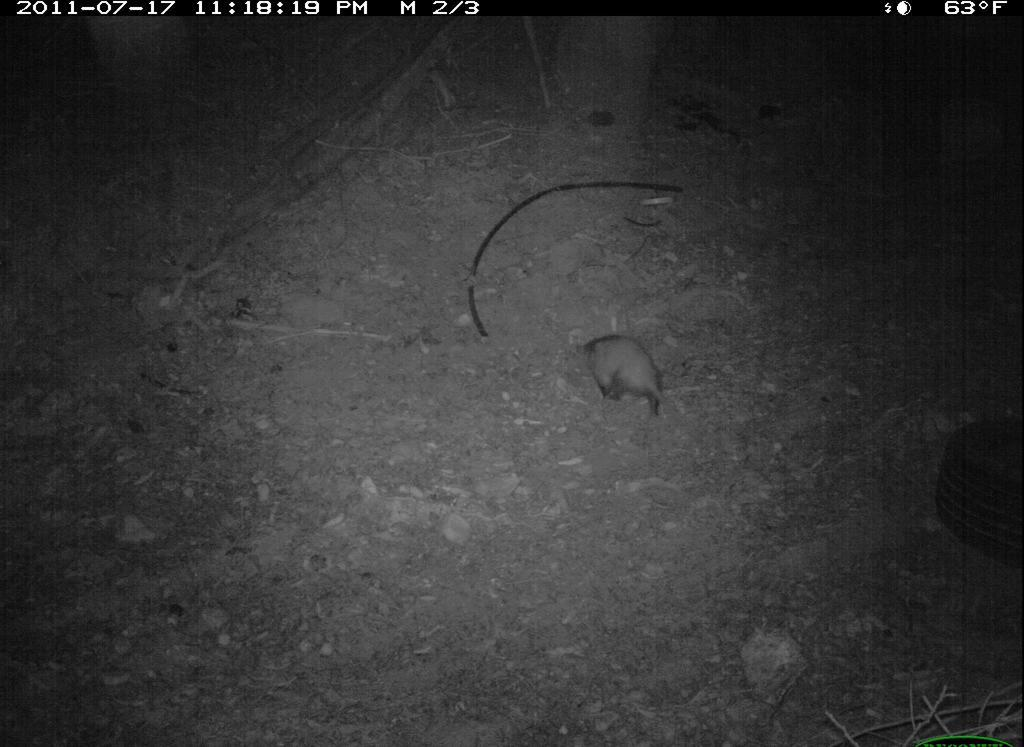opossum: (569, 321, 673, 434)
